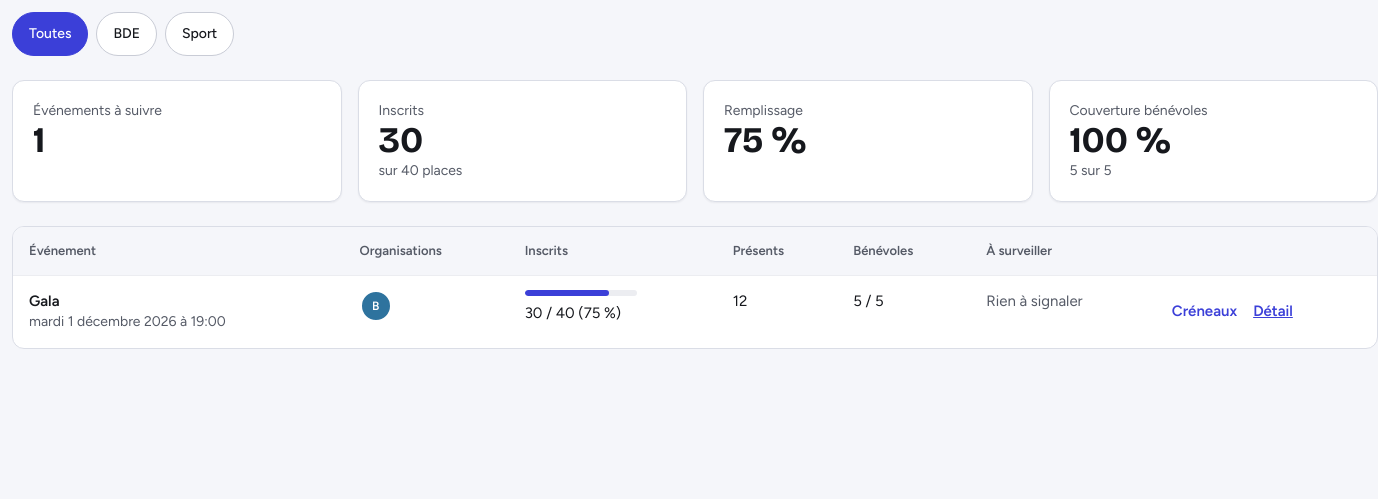
Scenario: DashboardView › opens the shift by shift detail of an event
Step 1. Click the button with aria-label "Détail de Gala" → [1273, 312], box [1253, 290, 1293, 334]
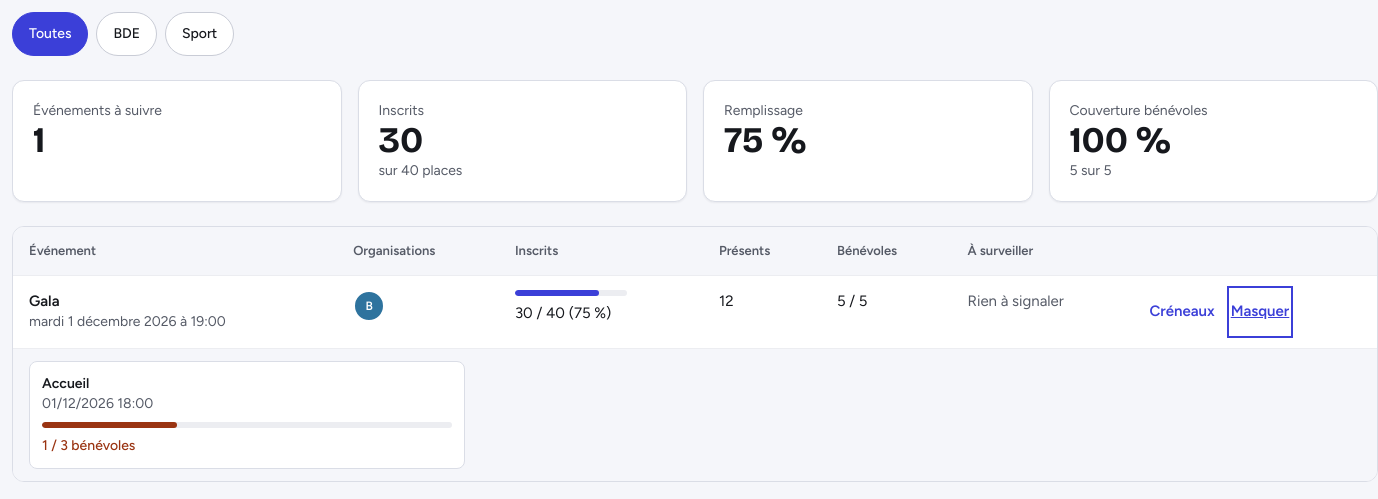
Check: the text "1 / 3 bénévoles" is shown, box [42, 436, 135, 454]
Step 2. Click the button with aria-label "Détail de Gala" → [1260, 312], box [1231, 290, 1289, 334]
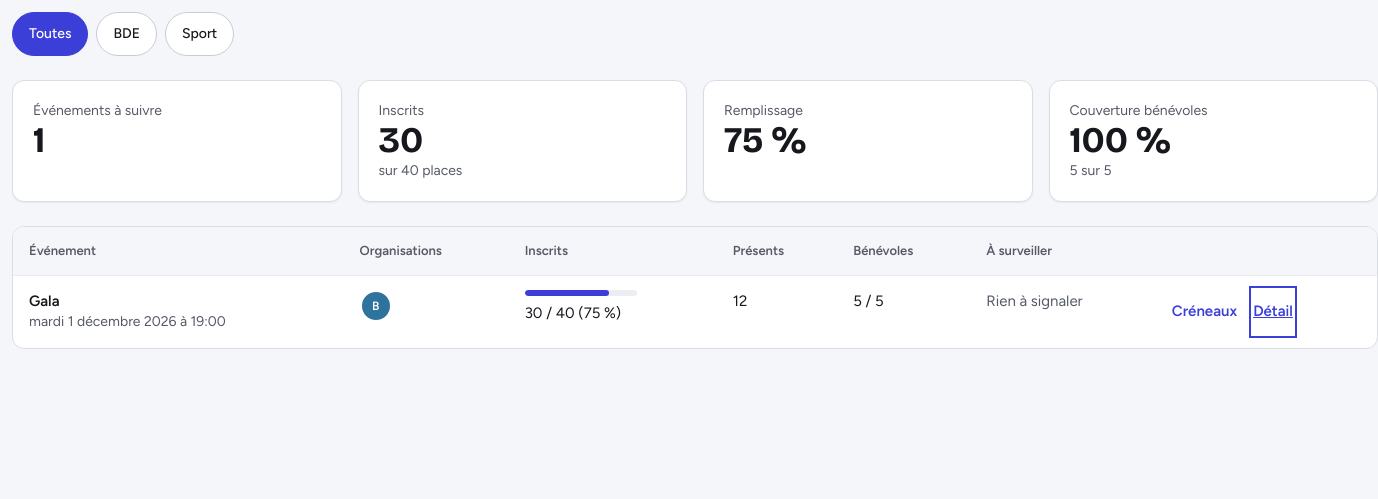
Check: the text "1 / 3 bénévoles" is gone
